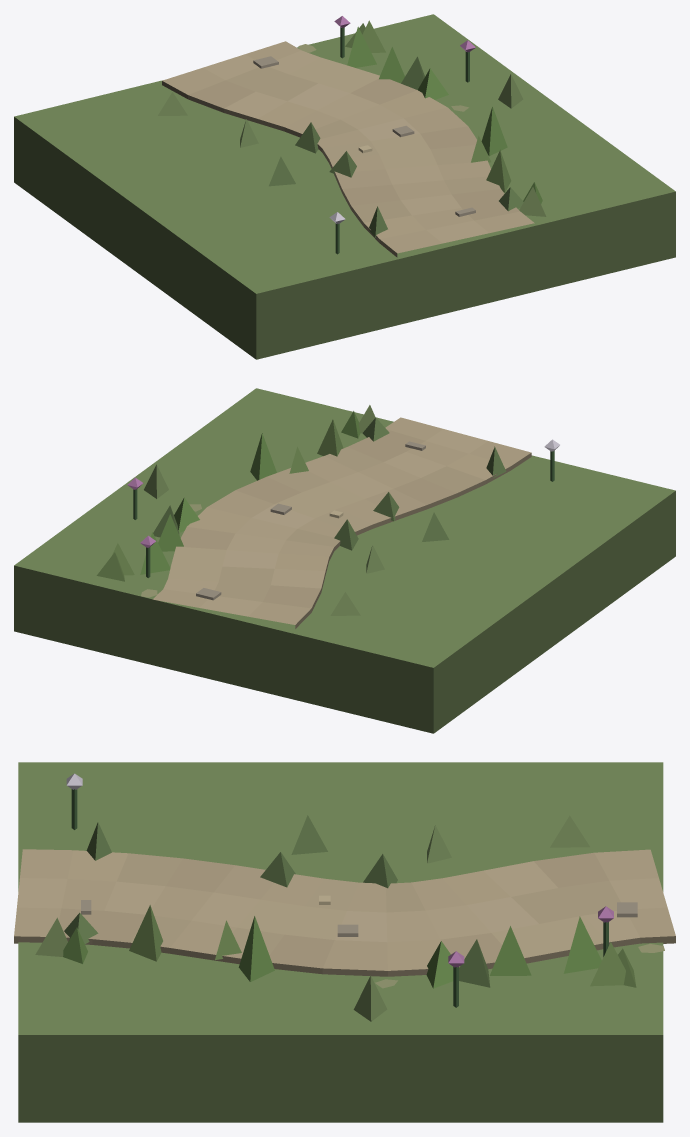
The model's file is t_footpath_7.glb.
The picture shows the model from 3 angles, top to bottom: view 1: azimuth 30°, elevation 25°; view 2: azimuth 150°, elevation 25°; view 3: azimuth 270°, elevation 25°; orthographic projection. The views are drawn at different scales.
Visible parts, largest first — view 1: t_footpath_7; view 2: t_footpath_7; view 3: t_footpath_7.
Part boxes in pixels (x1,y1,x2,y2): t_footpath_7: [14, 14, 675, 359]; t_footpath_7: [14, 388, 675, 733]; t_footpath_7: [14, 762, 675, 1122].
Size of the model in its own units: 2 by 0.4984 by 2.05.
